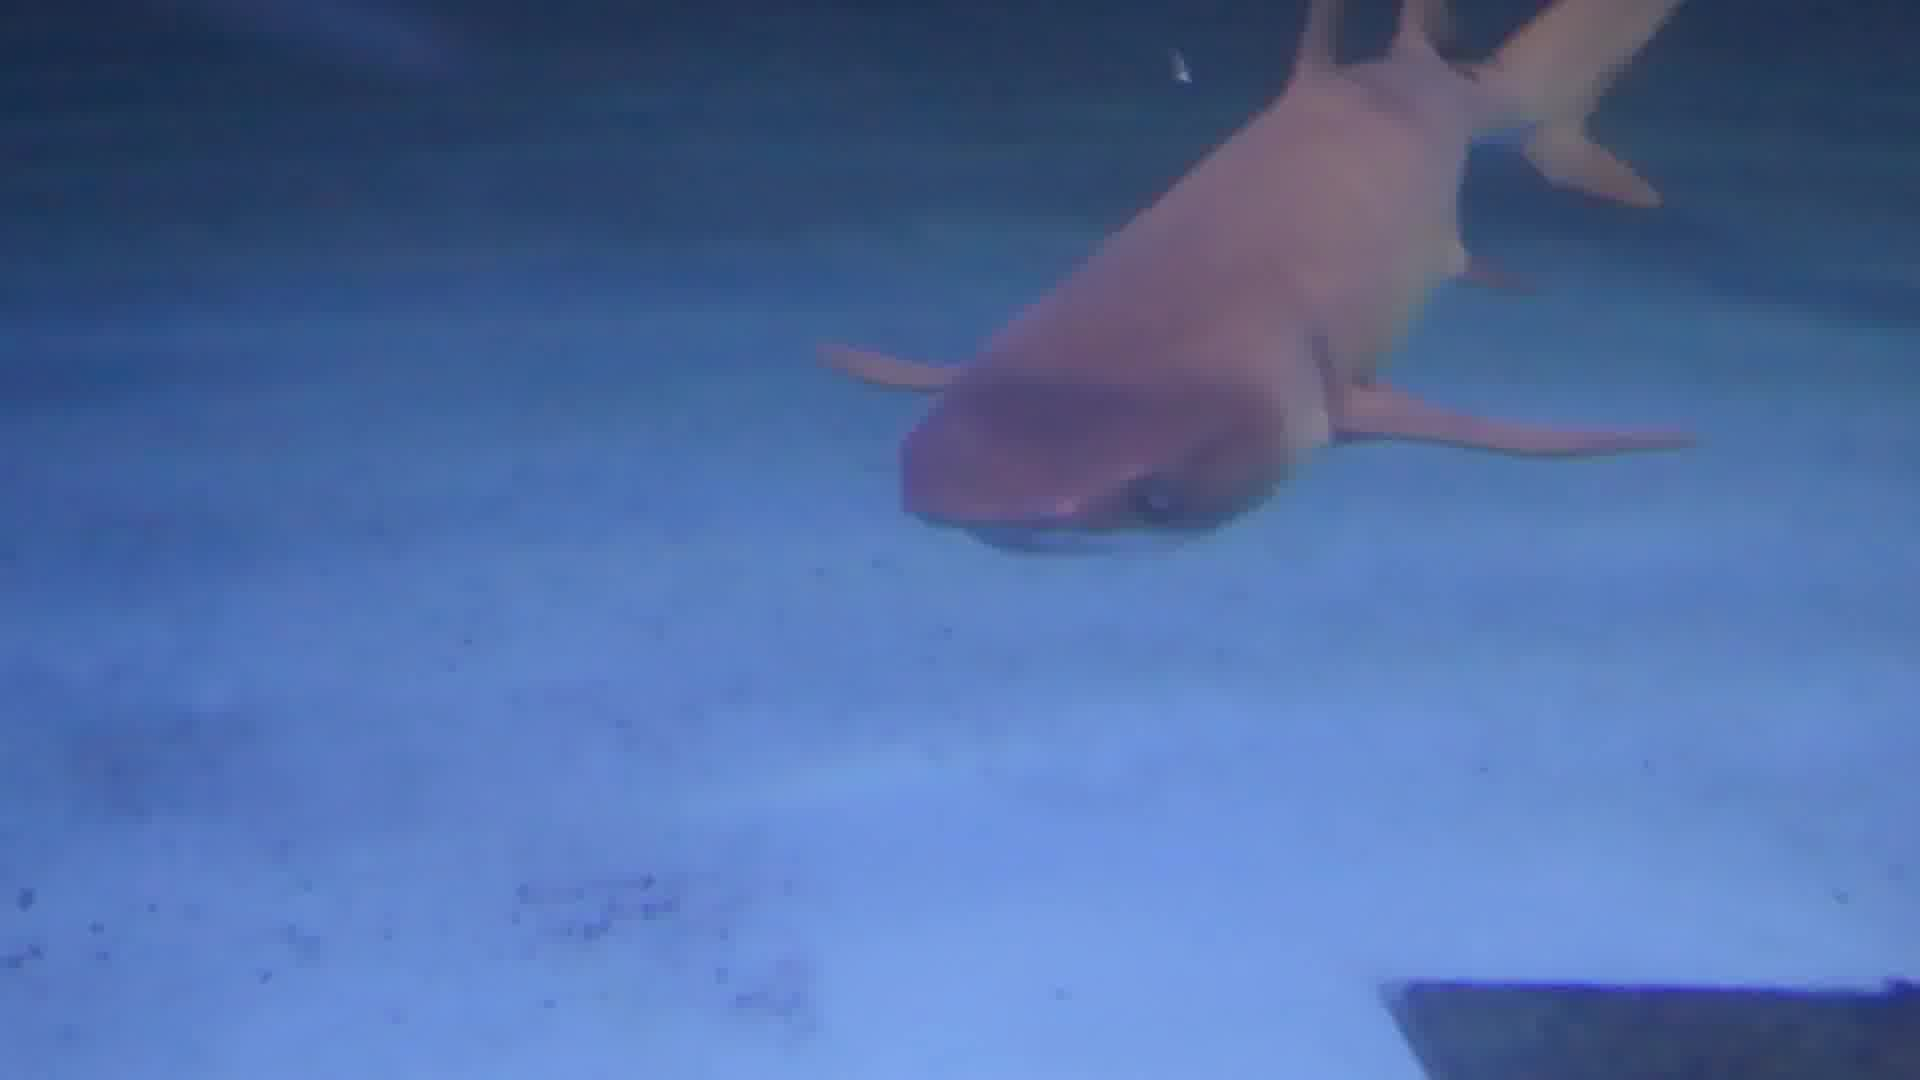Triaenodon obesus: (758, 5, 1775, 553)
